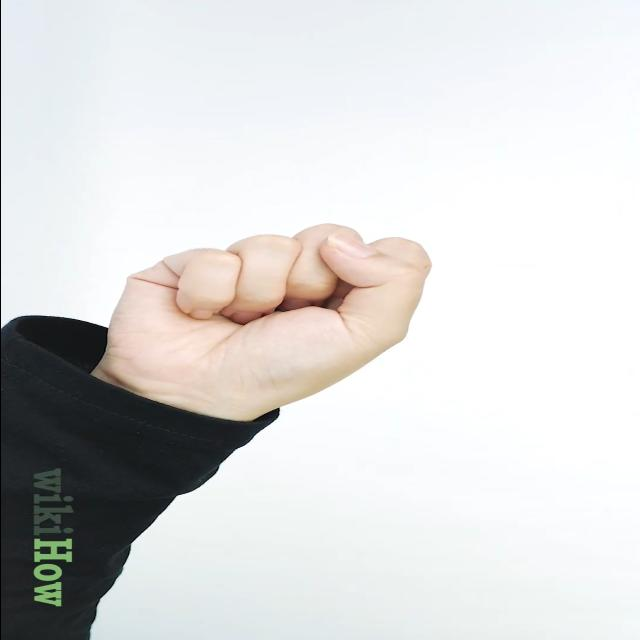Rock: (98, 223, 436, 411)
